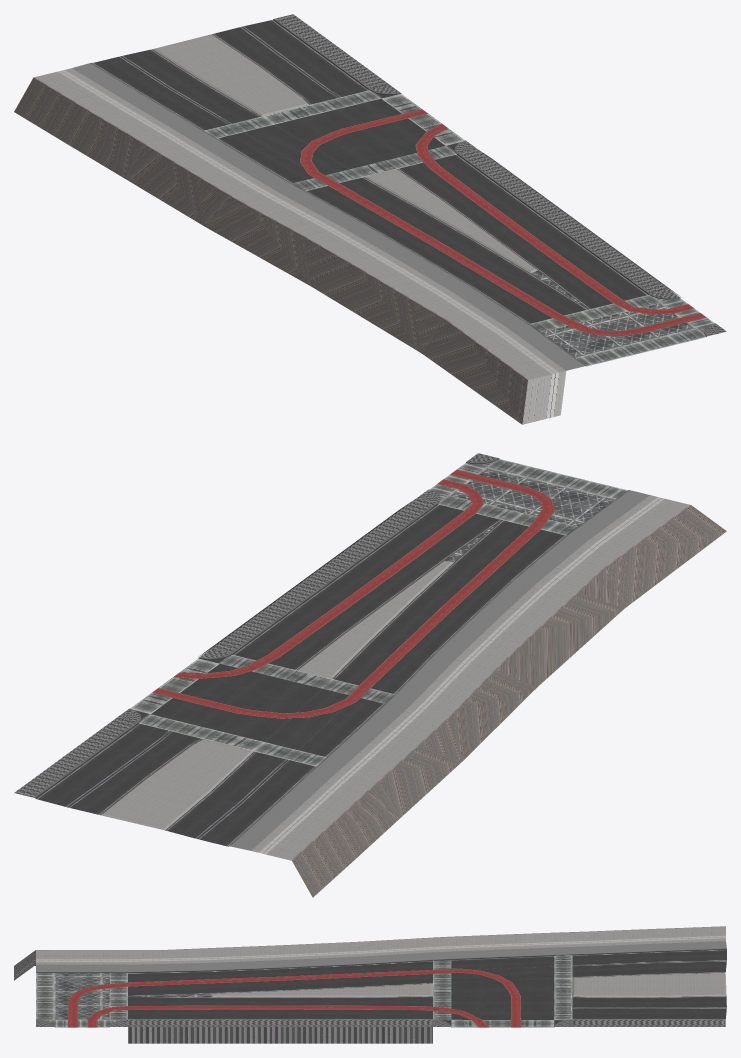
Rendered from road31_sfe.obj.
3 views of the same model, one above another, from view 1: azimuth 30°, elevation 25°; view 2: azimuth 150°, elevation 25°; view 3: azimuth 270°, elevation 25° (orthographic). The views are drawn at different scales.
Parts seen in each view (by area): view 1: road31_sfe; view 2: road31_sfe; view 3: road31_sfe.
Part boxes in pixels (<box>): road31_sfe: <box>14,14,726,424</box>; road31_sfe: <box>14,453,726,897</box>; road31_sfe: <box>14,926,726,1043</box>.
Bounding box in the file's own units: 73.3 × 7.17 × 193.
Materials: 9 (9 with a texture image).
